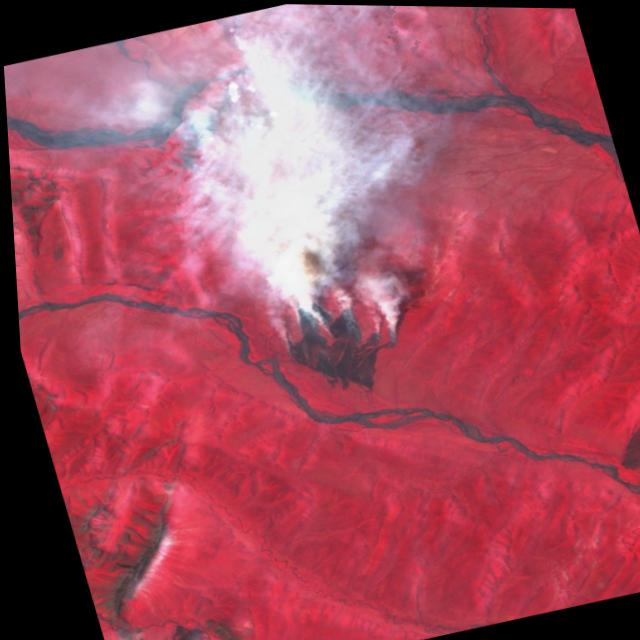fire: (246, 254, 418, 403)
